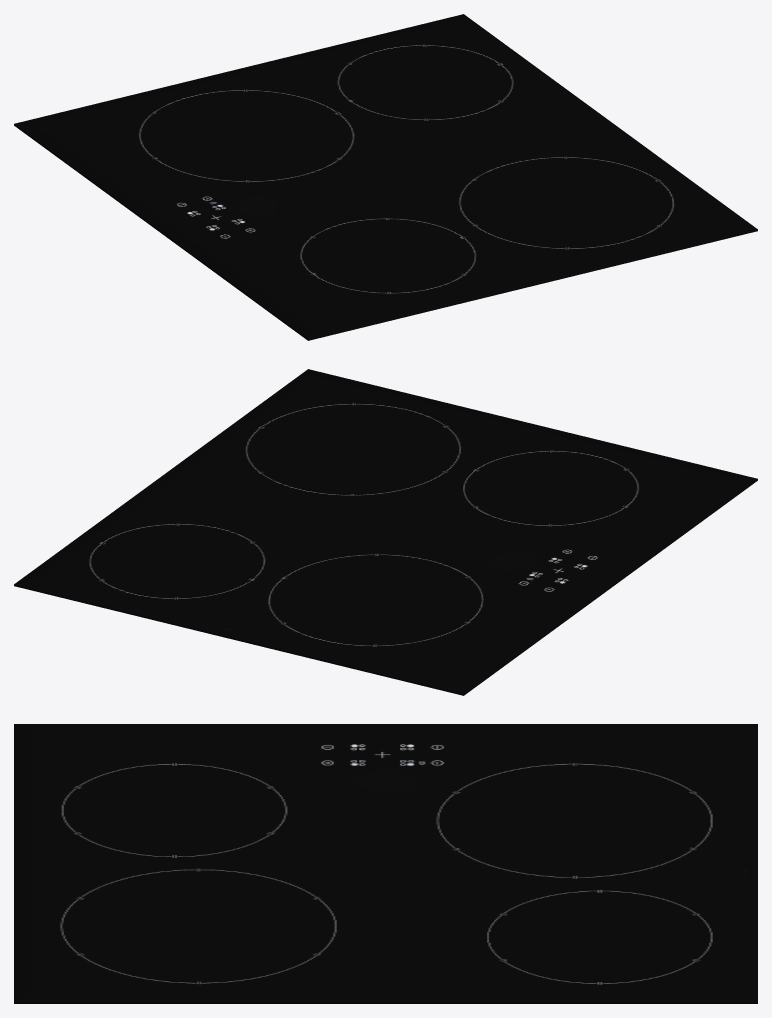
File: furniture_1.glb
3 views of the same model, one above another, from view 1: azimuth 30°, elevation 25°; view 2: azimuth 150°, elevation 25°; view 3: azimuth 270°, elevation 25° (orthographic). The views are drawn at different scales.
Visible parts, largest first — view 1: GF_CooktopInduction; view 2: GF_CooktopInduction; view 3: GF_CooktopInduction.
Part boxes in pixels (x1,y1,x2,y2): GF_CooktopInduction: [14, 14, 757, 340]; GF_CooktopInduction: [14, 369, 757, 695]; GF_CooktopInduction: [14, 724, 757, 1003].
Size of the model in its own units: 0.5293 by 0.00391 by 0.5996.
Materials: 1 (1 with a texture image).
